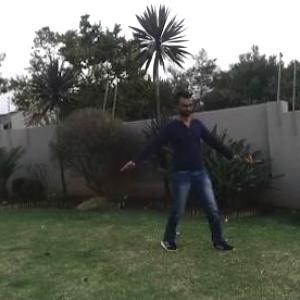land: (128, 98, 233, 230)
